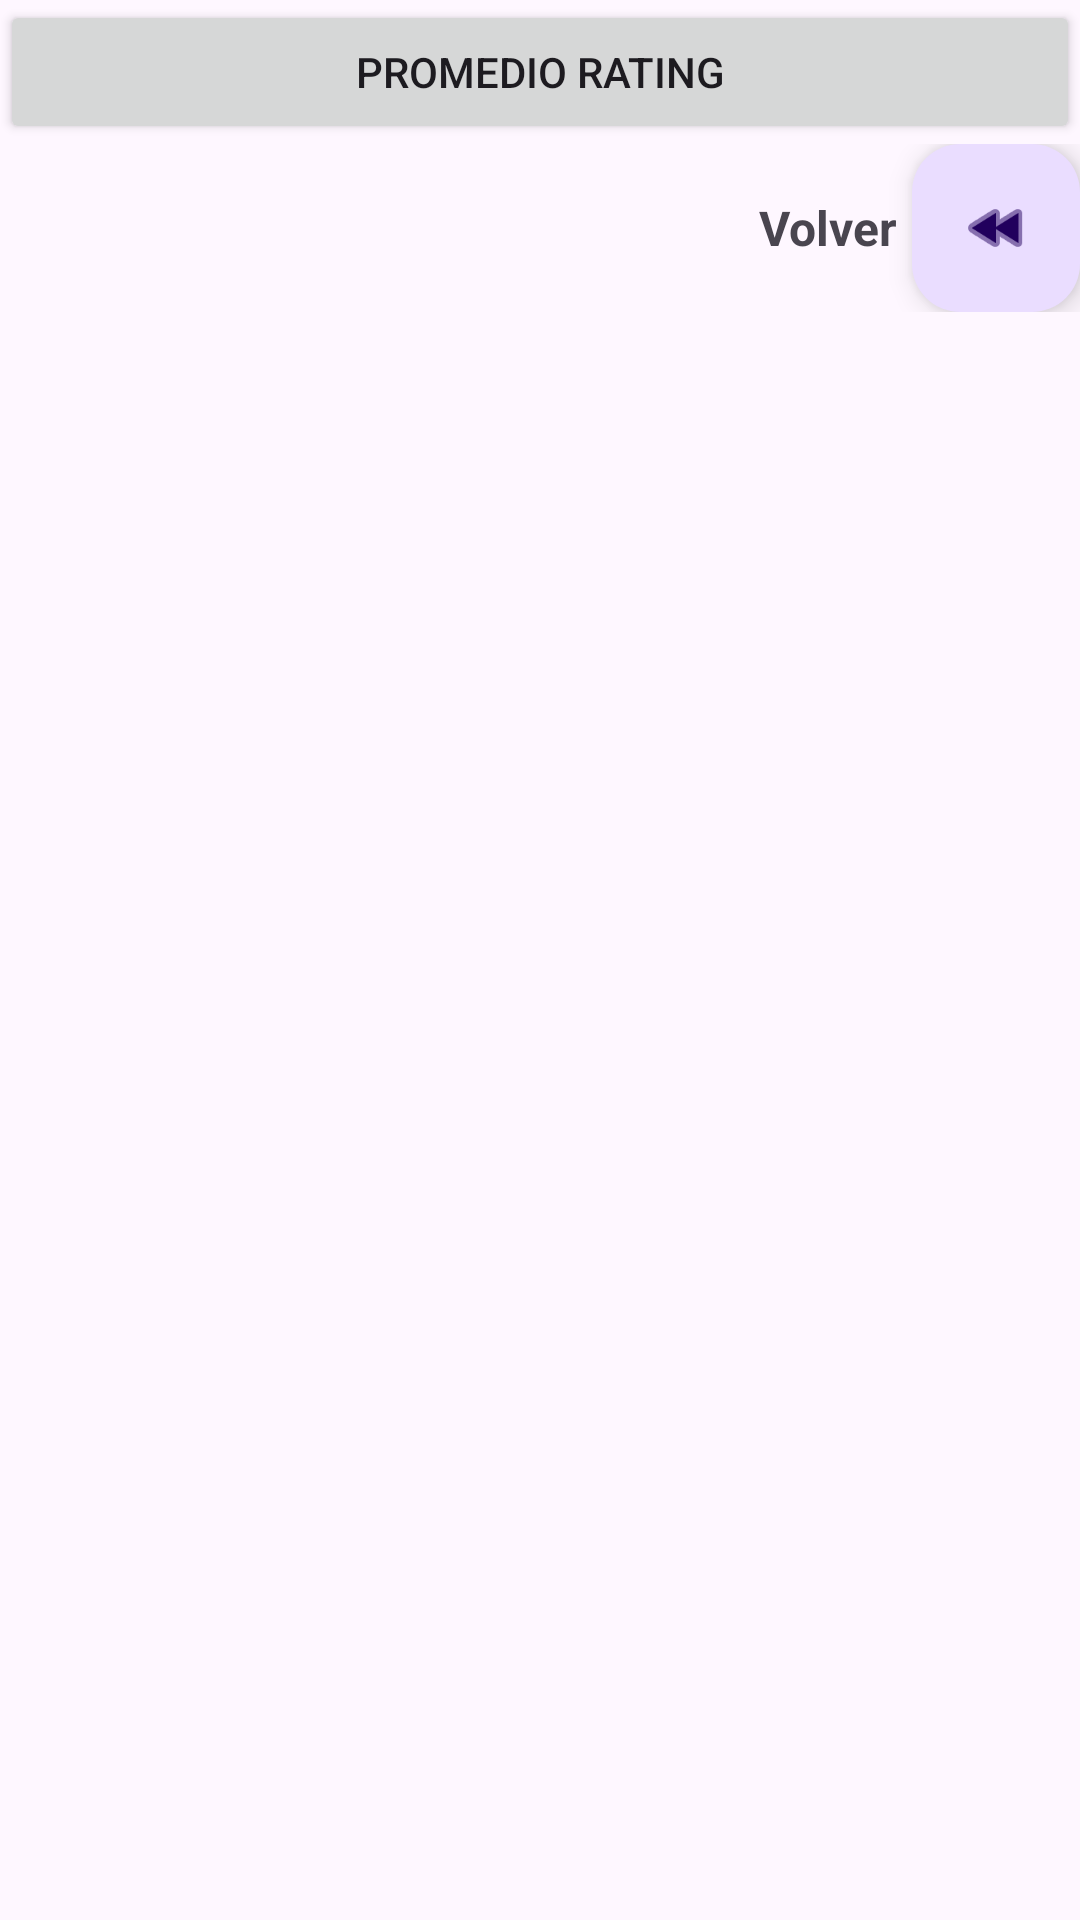

Where to tap for icons on this 1080x1920 app screen, as (x=x, y=y):
rew: (x=996, y=228)
